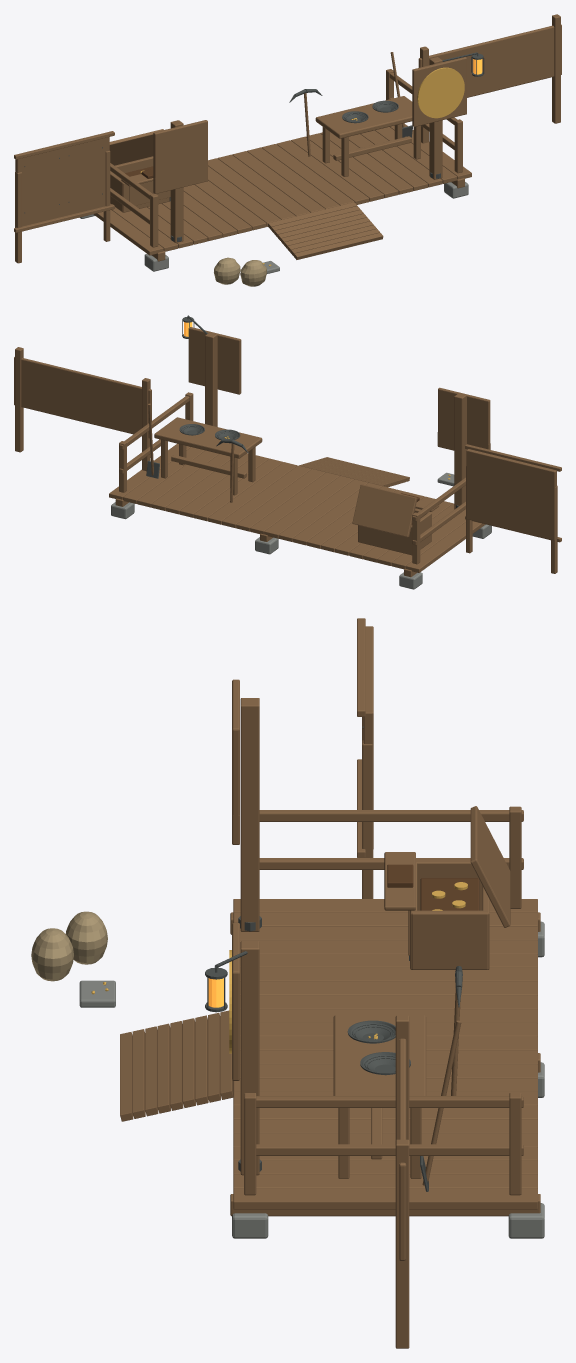
The model's file is details.glb.
The picture shows the model from 3 angles, top to bottom: view 1: azimuth 30°, elevation 25°; view 2: azimuth 150°, elevation 25°; view 3: azimuth 270°, elevation 25°; orthographic projection. The views are drawn at different scales.
Parts seen in each view (by area): view 1: Fixed_CabinCedar, ProspectingTabletop, Fixed_CabinGold, Fixed_CabinBurlap, Fixed_CabinIron, Fixed_CabinStone; view 2: Fixed_CabinCedar, ProspectingTabletop, Fixed_CabinStone, Fixed_CabinIron; view 3: Fixed_CabinCedar, ProspectingTabletop, Fixed_CabinBurlap, Fixed_CabinStone, Fixed_CabinLeather, Fixed_CabinIron, OreSortingSlate, GoldPan0.
Boxes of the visible parts, x1=… form: Fixed_CabinCedar: x1=14, y1=14, x2=561, y2=263; ProspectingTabletop: x1=315, y1=96, x2=412, y2=138; Fixed_CabinGold: x1=140, y1=67, x2=464, y2=173; Fixed_CabinBurlap: x1=214, y1=257, x2=266, y2=286; Fixed_CabinIron: x1=24, y1=53, x2=484, y2=241; Fixed_CabinStone: x1=80, y1=182, x2=468, y2=271; Fixed_CabinCedar: x1=14, y1=327, x2=561, y2=577; ProspectingTabletop: x1=154, y1=417, x2=262, y2=458; Fixed_CabinStone: x1=111, y1=502, x2=491, y2=589; Fixed_CabinIron: x1=146, y1=317, x2=458, y2=508; Fixed_CabinCedar: x1=120, y1=618, x2=540, y2=1348; ProspectingTabletop: x1=333, y1=1015, x2=426, y2=1095; Fixed_CabinBurlap: x1=31, y1=911, x2=107, y2=981; Fixed_CabinStone: x1=232, y1=921, x2=544, y2=1238; Fixed_CabinLeather: x1=387, y1=864, x2=479, y2=910; Fixed_CabinIron: x1=205, y1=726, x2=462, y2=1191; OreSortingSlate: x1=79, y1=980, x2=115, y2=1007; GoldPan0: x1=347, y1=1020, x2=395, y2=1043.
Bounding box in the file's own units: 10.97 × 2.73 × 4.55.
